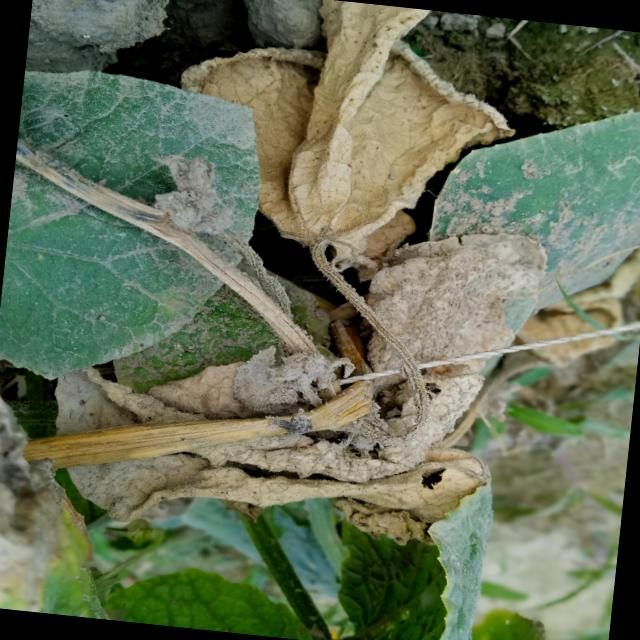cucumber_bacterial: (169, 188, 555, 540), (0, 52, 275, 441), (168, 0, 544, 259), (323, 437, 513, 640)
